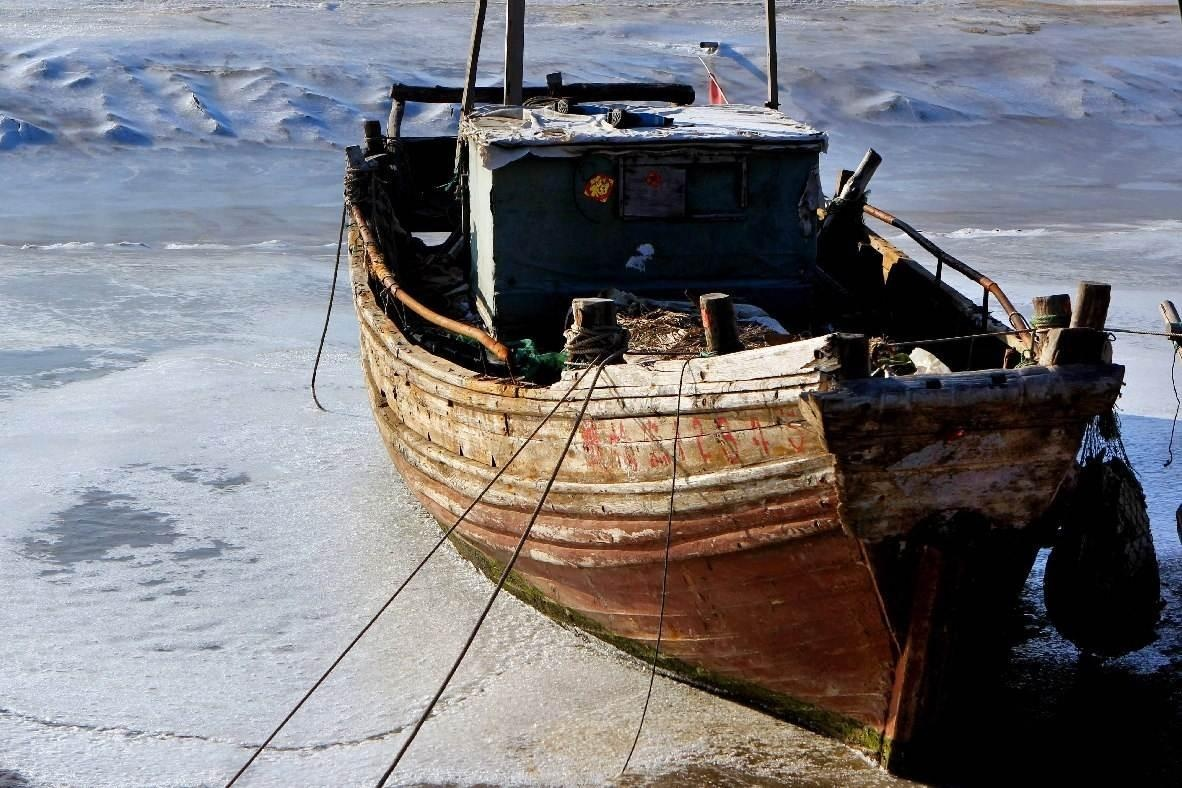otherboat: (342, 3, 1127, 762)
